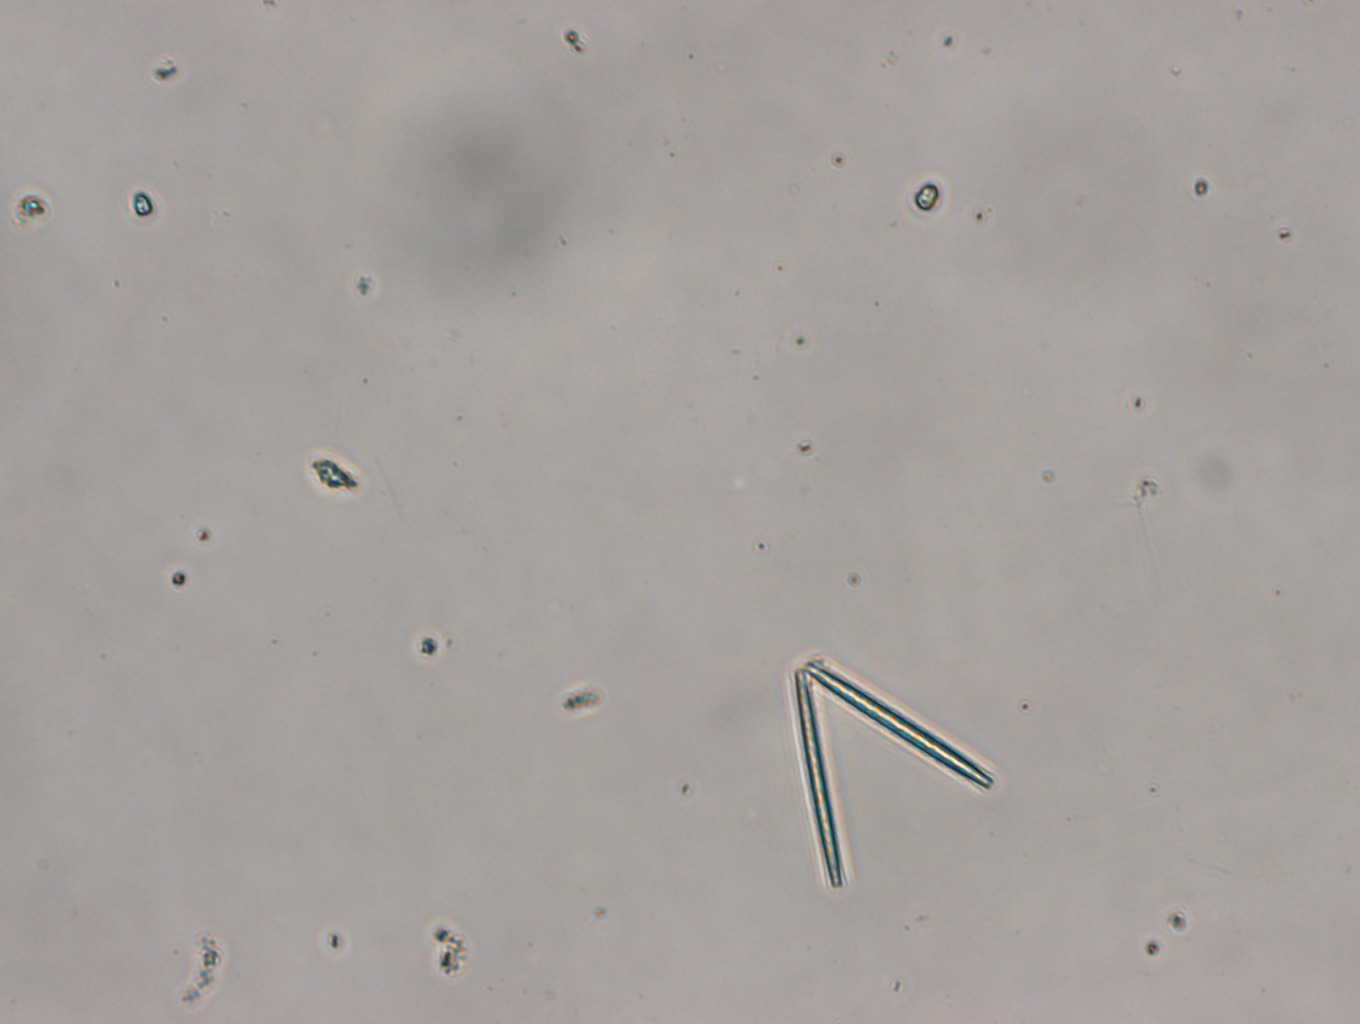thalassionema nitzschioides: (790, 657, 997, 891)
